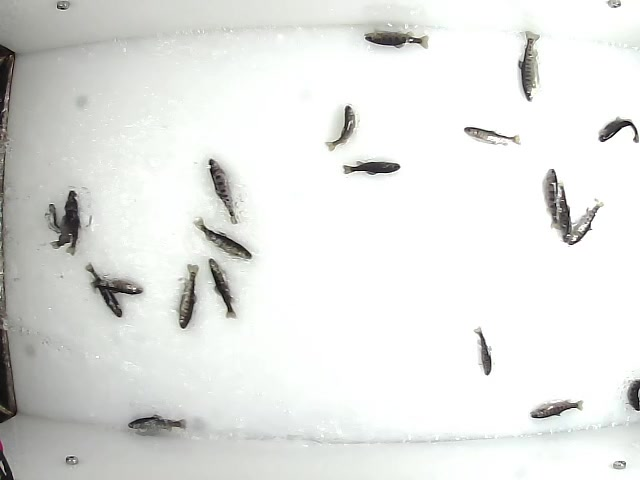fish: (193, 215, 253, 261), (84, 261, 126, 321), (206, 158, 242, 227), (207, 255, 240, 321), (515, 31, 544, 102), (566, 196, 606, 246), (323, 102, 356, 153), (362, 26, 432, 50), (177, 260, 201, 330), (460, 125, 523, 149), (540, 165, 563, 230), (125, 410, 187, 434), (593, 115, 640, 146), (61, 188, 82, 257), (528, 397, 584, 421), (49, 207, 78, 249), (555, 181, 574, 241), (88, 275, 144, 295), (341, 160, 402, 178), (473, 327, 493, 377), (44, 201, 74, 234)
